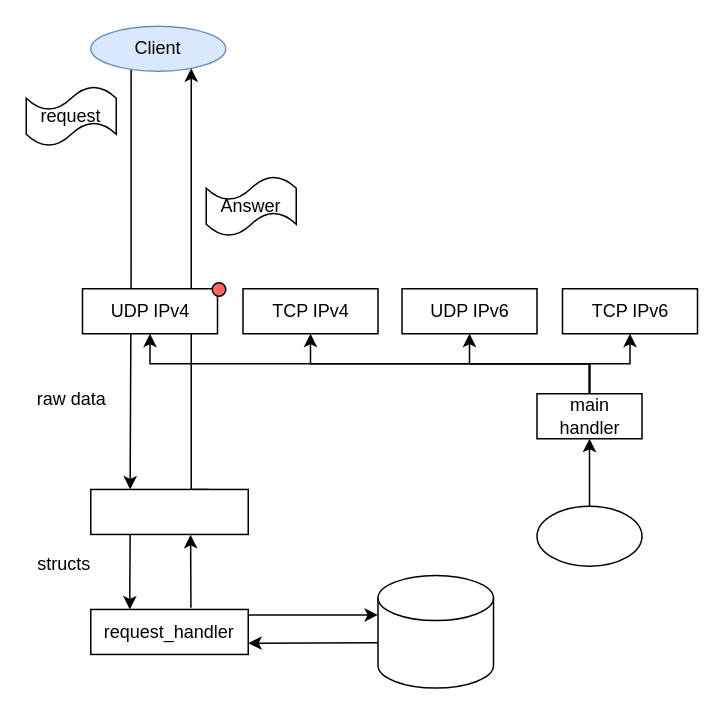
This 725x716 diagram has some shape labels left out. The box of each missing label's shape, as (x1, y1, x2, y2) in pixels:
common.c: (89, 488, 248, 534)
Server: (536, 505, 642, 566)
zone-file: (376, 574, 494, 688)
